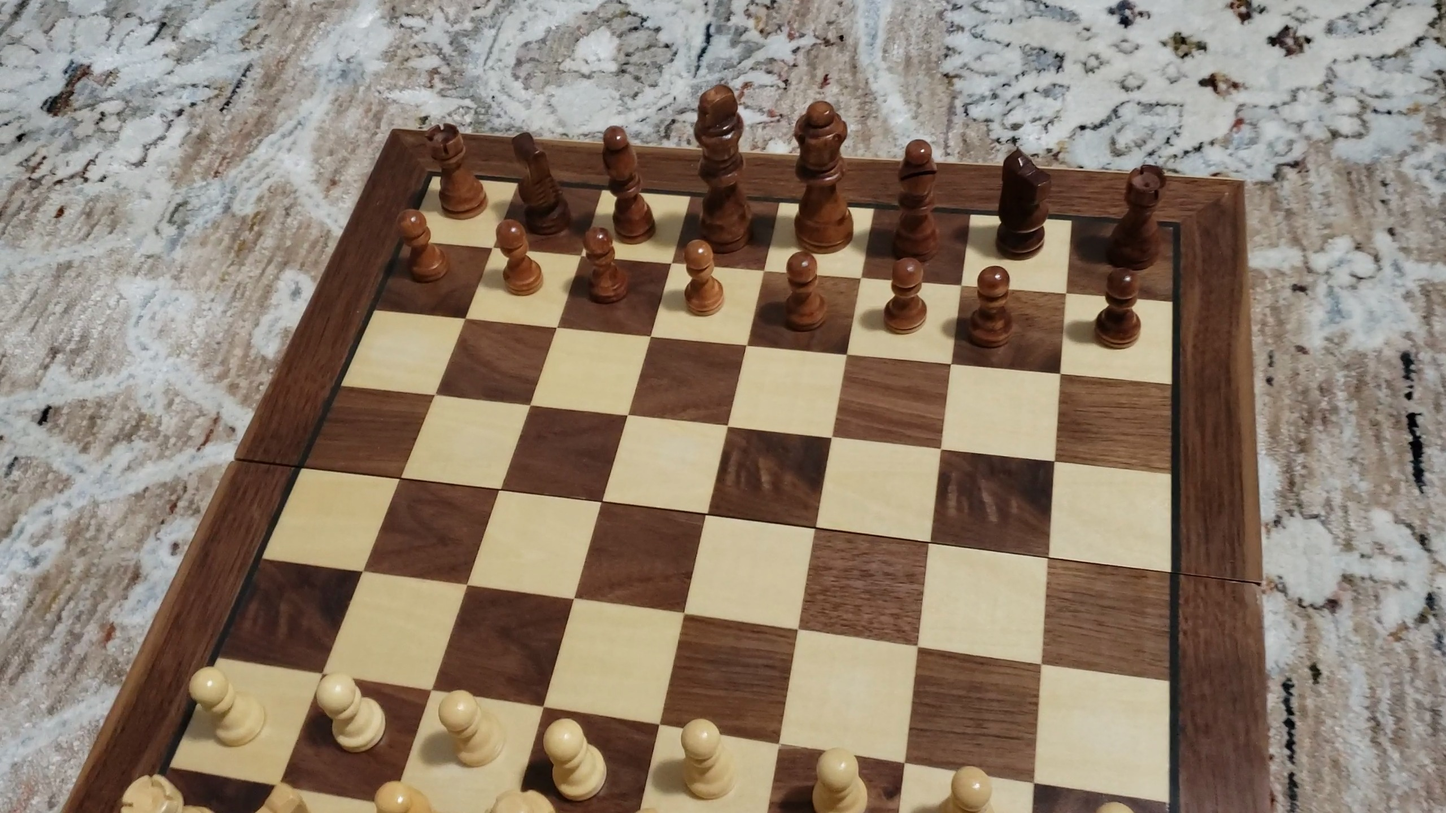black-bishop: (693, 80, 752, 253), (601, 123, 656, 243), (893, 137, 941, 260)
black-knight: (994, 142, 1052, 260), (509, 127, 570, 236)
black-pawn: (1092, 267, 1145, 352), (968, 263, 1016, 351), (395, 207, 447, 286), (580, 224, 629, 307), (883, 255, 931, 338), (495, 217, 543, 298), (782, 250, 827, 334), (681, 236, 725, 319)
black-queen: (791, 97, 852, 253)
black-rook: (1105, 161, 1168, 271), (424, 120, 486, 218)
white-pawn: (183, 664, 272, 751), (311, 670, 390, 757), (434, 686, 509, 770), (674, 715, 743, 804), (539, 716, 610, 802), (805, 744, 875, 812), (942, 761, 1002, 812)
